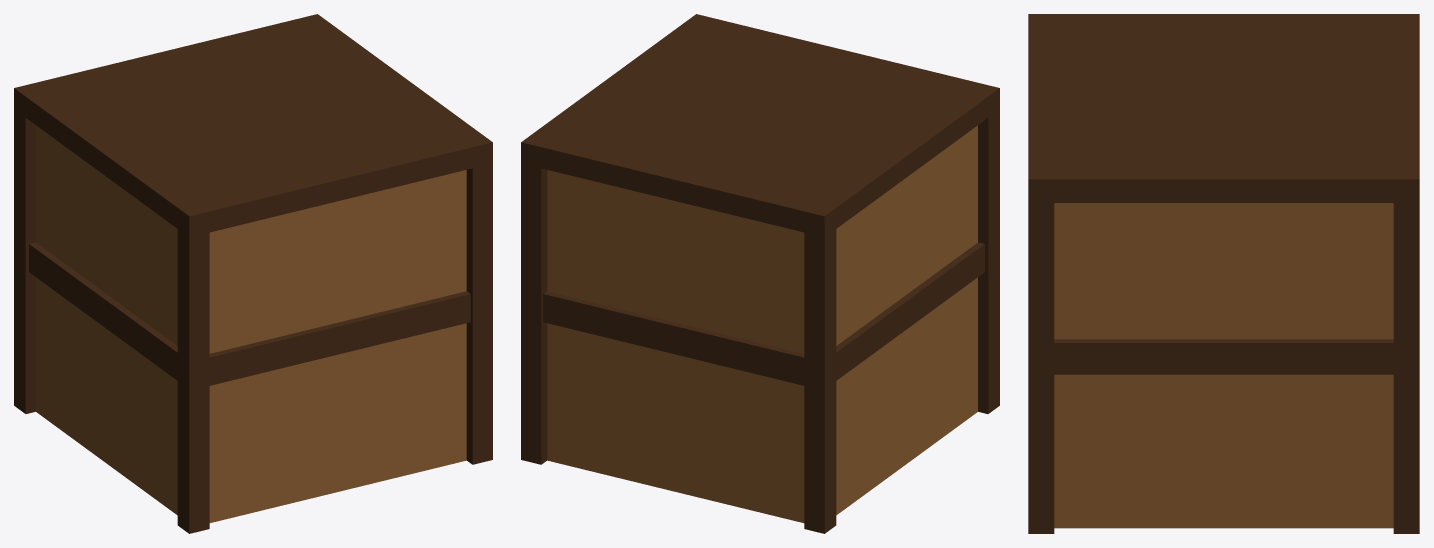
File: crate_placeholder.glb
3 renders of one model, left to right at view 1: azimuth 30°, elevation 25°; view 2: azimuth 150°, elevation 25°; view 3: azimuth 270°, elevation 25°, orthographic. The views are drawn at different scales.
Visible parts, largest first — view 1: crate_placeholder; view 2: crate_placeholder; view 3: crate_placeholder.
Part boxes in pixels (left/top/right/bottom): crate_placeholder: left=14, top=14, right=492, bottom=533; crate_placeholder: left=521, top=14, right=999, bottom=533; crate_placeholder: left=1028, top=14, right=1419, bottom=533.
Size of the model in its own units: 0.9 by 0.9 by 0.9.
1 material, 1 textured.
